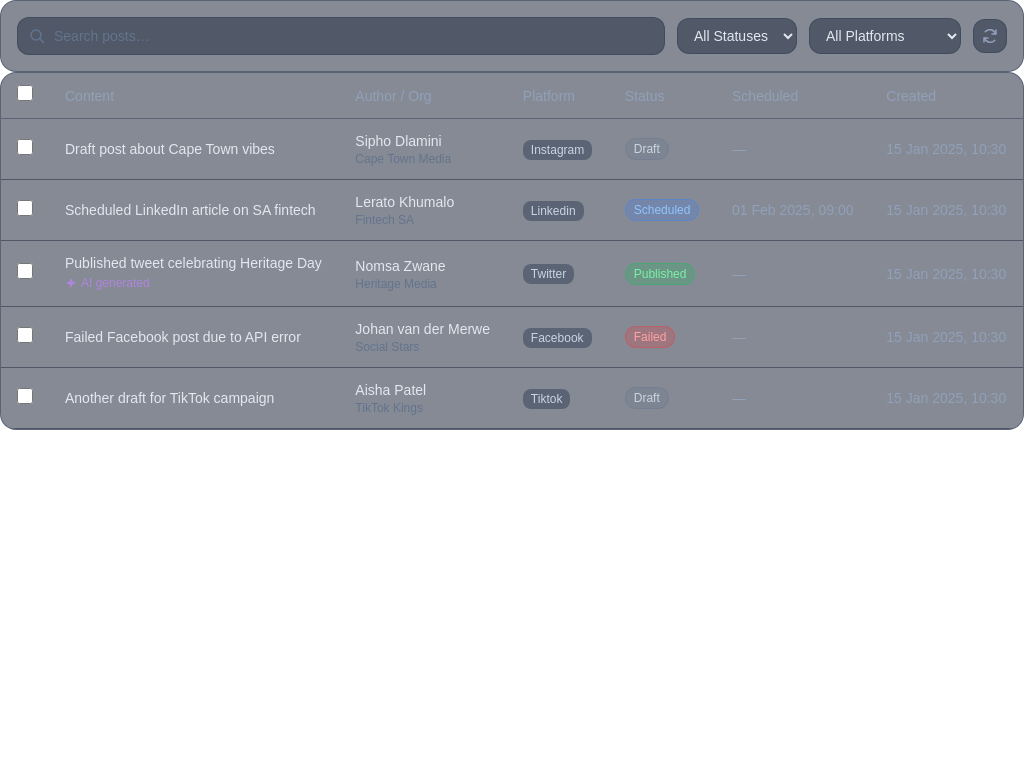
Scenario: PostModerationTable › Selection › selects all filtered posts via select-all checkbox
Click the checkbox named "select all posts": (25,93) [17,85,33,101]
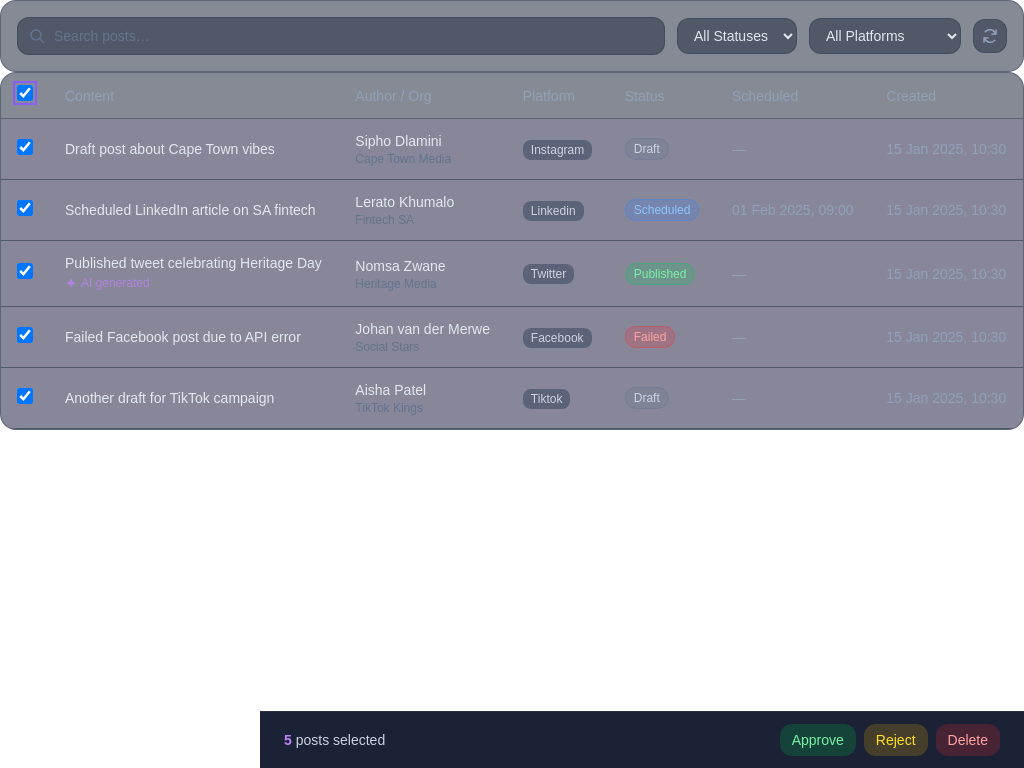
Expected: the checkbox named "Select all posts" is checked, [17,85,33,101]
Expected: the checkbox named "Select post by Sipho Dlamini" is checked, [17,138,33,154]
Expected: the checkbox named "Select post by Lerato Khumalo" is checked, [17,200,33,216]
